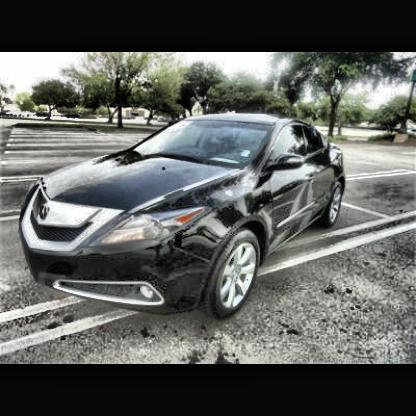Acura ZDX Hatchback 2012: (21, 114, 348, 320)
